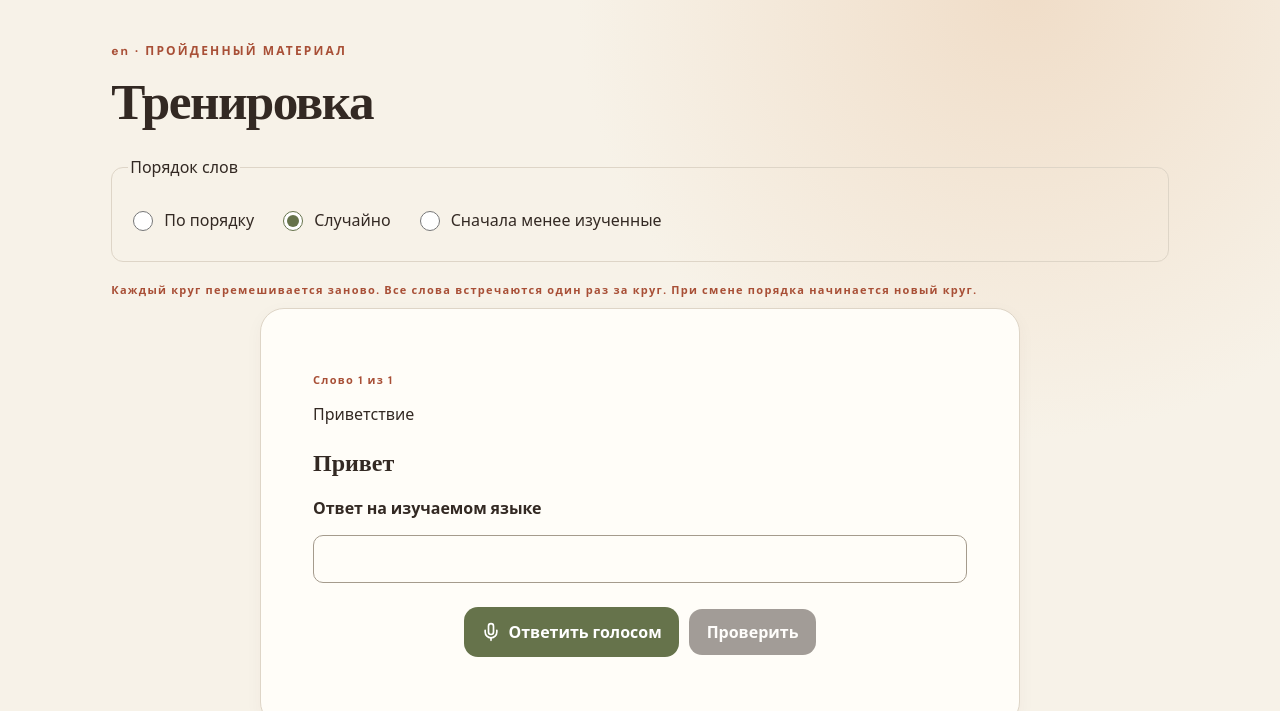
Scenario: keeps the en training grade visible after voice recognition
What coordinates should you click on to do the following:
click the button "Ответить голосом"
I would click on:
 (571, 632)
Its box is [464,607,679,657].
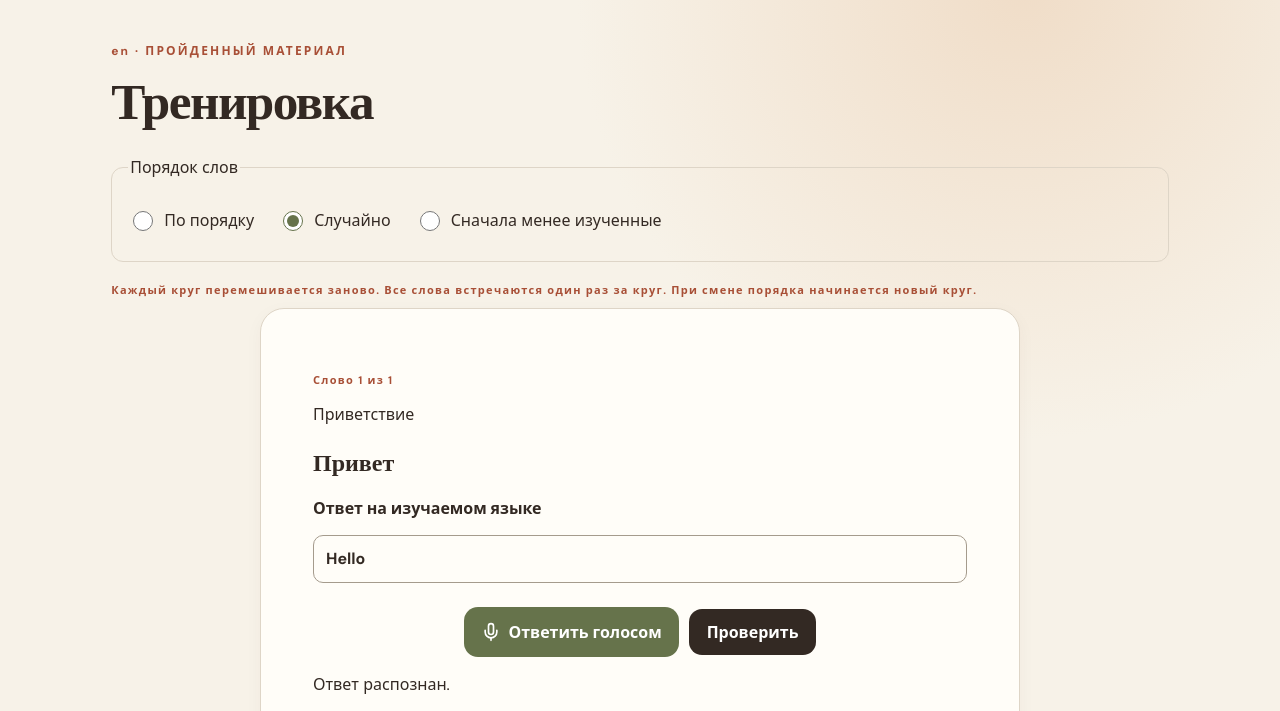
Check: the field holds "Hello", box [313,535,967,583]
What coordinates should you click on to do the following:
click the button "Проверить"
I would click on:
 (753, 632)
Its box is [689,609,816,655].
(page scrolled)
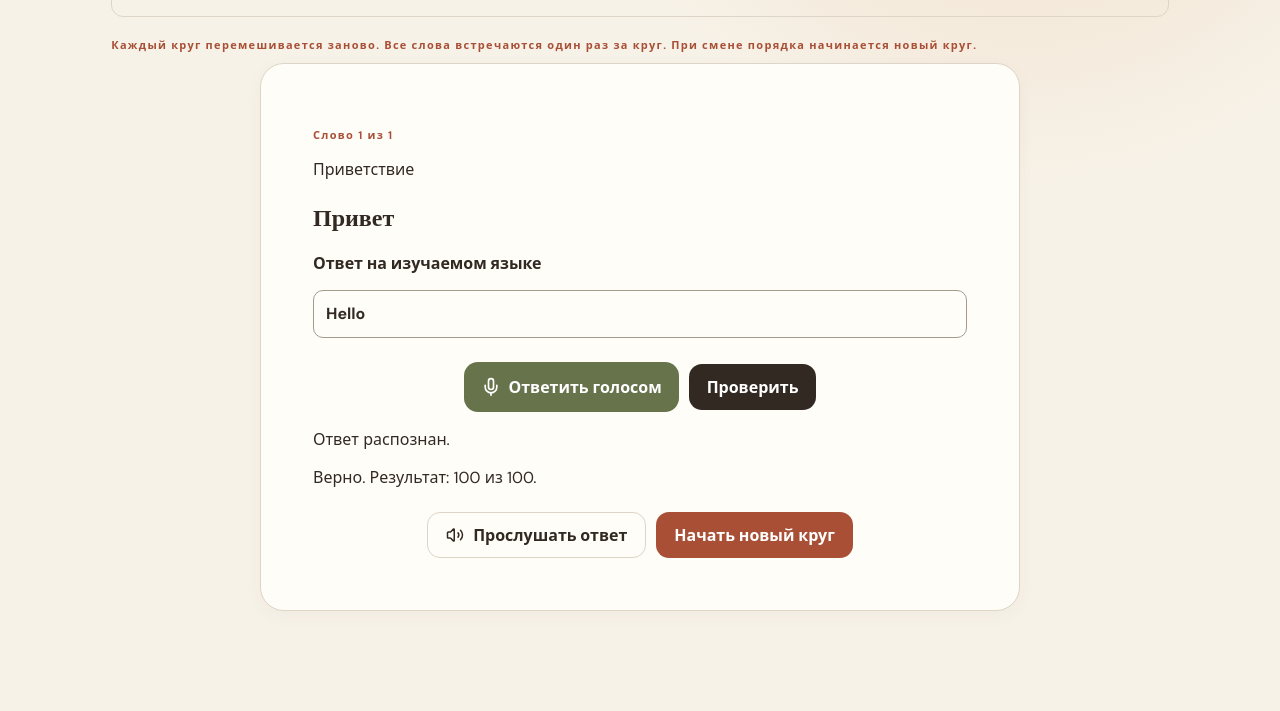
Check: the text "Ответ распознан." is shown, box [313,429,450,450]
Check: the text "Верно. Результат: 100 из 100." is shown, box [313,467,536,488]
Check: the button "Начать новый круг" is enabled, box [656,512,853,558]
